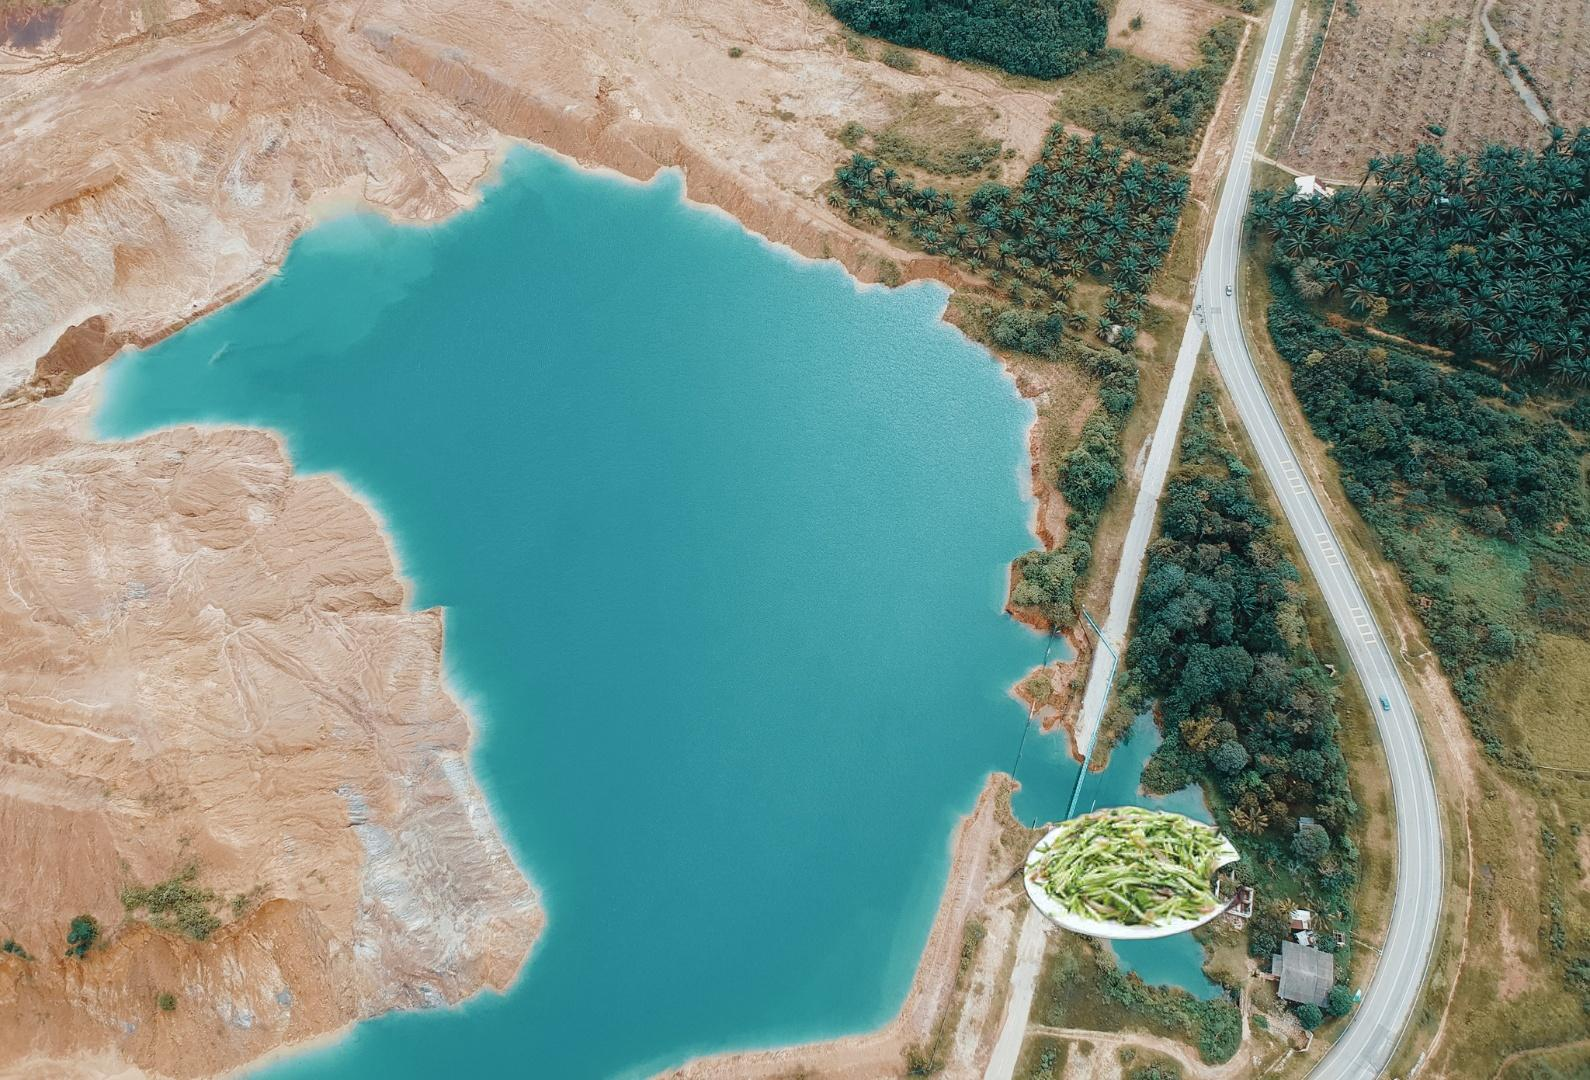biological: (1020, 796, 1269, 943)
